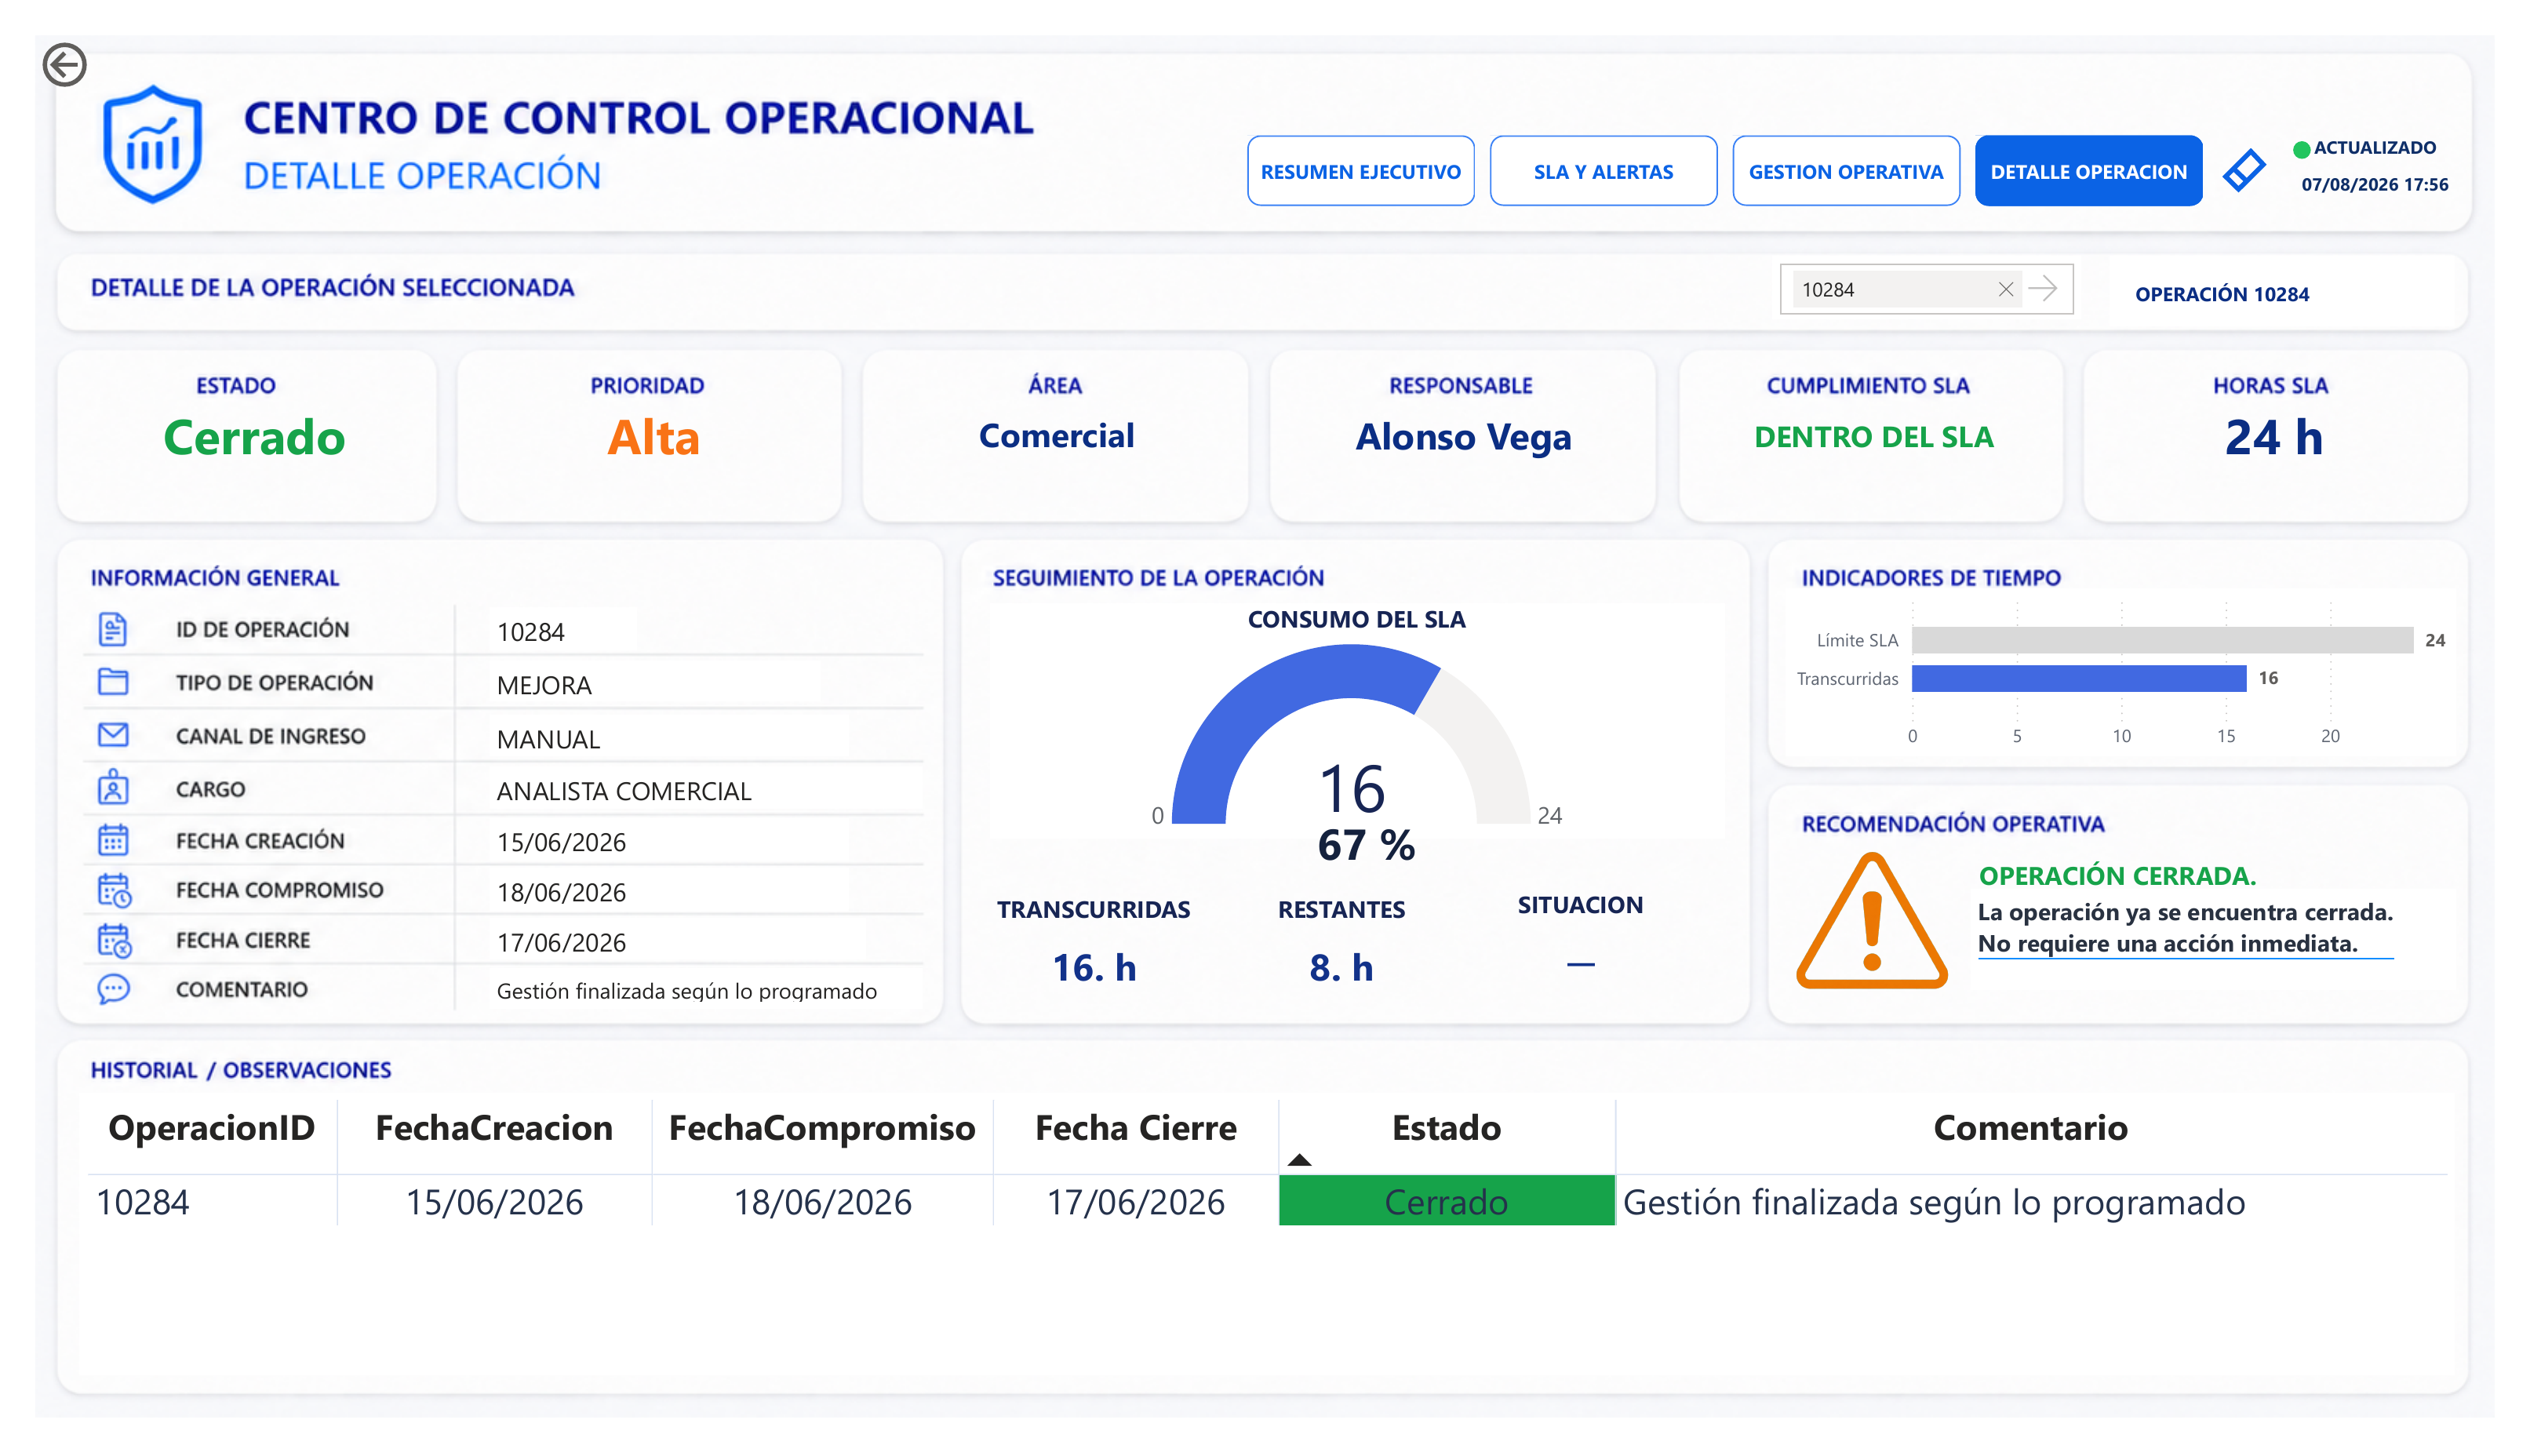

Layout of this report page (visuals, bound fields, positions):
{"tool":"powerbi","page":{"name":"DETALLE OPERACION","canvas":[1672,941],"ordinal":3},"visuals":[{"type":"pageNavigator","box":[824,68,650,48],"z":0},{"type":"actionButton","box":[1487,68,40,48],"z":1000},{"type":"cardVisual","title":"ACTUALIZADO","fields":{"Data":["Consulta.Texto Actualizacion"]},"box":[1536,68,110,48],"z":2000},{"type":"shape","box":[1535,72,12,12],"z":3000},{"type":"actionButton","box":[0,0,100,40],"z":4000},{"type":"cardVisual","fields":{"Data":["Consulta.Operacion Seleccionada"]},"box":[1410,150,235.5,48.2],"z":5000},{"type":"cardVisual","fields":{"Data":["Consulta.Estado Seleccionado"]},"box":[20,211.4,258.6,117.1],"z":6000},{"type":"cardVisual","fields":{"Data":["Consulta.Prioridad Seleccionada"]},"box":[288.6,211.4,264.3,117.1],"z":7000},{"type":"textSlicer","fields":{"Values":["Fact_Operaciones.OperacionID"]},"box":[1181.4,150,210,42.9],"z":8000},{"type":"cardVisual","fields":{"Data":["Consulta.Area Seleccionada"]},"box":[564.3,211.4,261.4,117.1],"z":9000},{"type":"cardVisual","fields":{"Data":["Consulta.Responsable Seleccionado"]},"box":[835.7,211.4,271.4,117.1],"z":10000},{"type":"cardVisual","fields":{"Data":["Consulta.Cumplimiento SLA Seleccionado"]},"box":[1120,211.4,261.4,117.1],"z":11000},{"type":"cardVisual","fields":{"Data":["Consulta.Horas SLA Seleccionada"]},"box":[1391.4,211.4,262.9,117.1],"z":12000},{"type":"cardVisual","fields":{"Data":["Consulta.ID Operacion Seleccionada"]},"box":[309.2,389.2,100,28.5],"z":13000},{"type":"cardVisual","fields":{"Data":["Consulta.Tipo Operacion Seleccionada"]},"box":[309.2,424.6,224.6,28.5],"z":14000},{"type":"cardVisual","fields":{"Data":["Consulta.Canal Ingreso Seleccionado"]},"box":[309.2,461.5,243.8,28.5],"z":15000},{"type":"cardVisual","fields":{"Data":["Consulta.Cargo Seleccionado"]},"box":[308.6,497.1,294.3,28.6],"z":16000},{"type":"cardVisual","fields":{"Data":["Consulta.Fecha Creacion Seleccionada"]},"box":[309.2,532.3,243.8,28.5],"z":17000},{"type":"cardVisual","fields":{"Data":["Consulta.Fecha Compromiso Seleccionada"]},"box":[309.2,566.2,243.8,28.5],"z":18000},{"type":"cardVisual","fields":{"Data":["Consulta.Fecha Cierre Seleccionada"]},"box":[309.2,600,255.4,28.5],"z":19000},{"type":"cardVisual","fields":{"Data":["Consulta.Comentario Seleccionado"]},"box":[309.2,633.8,293.8,28.5],"z":20000},{"type":"gauge","title":"CONSUMO DEL SLA","fields":{"Y":["Consulta.Horas Transcurridas Valor"],"MaxValue":["Consulta.Horas SLA Valor"]},"box":[648.8,386.2,500,160],"z":21000},{"type":"cardVisual","title":"TRANSCURRIDAS","fields":{"Data":["Consulta.Horas Transcurridas Seleccionadas"]},"box":[648.8,582.5,142.5,80],"z":22000},{"type":"cardVisual","title":"RESTANTES","fields":{"Data":["Consulta.Horas Restantes Seleccionadas"]},"box":[823.8,582.5,128.8,80],"z":22001},{"type":"cardVisual","title":"SITUACION","fields":{"Data":["Consulta.Situacion Plazo Seleccionada"]},"box":[952.5,580,196.2,81.2],"z":22002},{"type":"cardVisual","fields":{"Data":["Consulta.Porcentaje Consumo SLA"]},"box":[836.2,515,138.8,65],"z":22003},{"type":"clusteredBarChart","fields":{"Category":["Indicadores_Tiempo.Indicador"],"Y":["Consulta.Valor Indicador Tiempo"]},"box":[1190,376.2,456.2,113.8],"z":22004},{"type":"cardVisual","fields":{"Data":["Consulta.Recomendacion Titulo"]},"box":[1317.1,542.9,328.6,52.9],"z":22005},{"type":"image","box":[1181.2,540,135,127.5],"z":22007},{"type":"textbox","box":[1316.2,580,330,68.8],"z":22008},{"type":"tableEx","fields":{"Values":["Fact_Operaciones.OperacionID","Fact_Operaciones.FechaCreacion","Fact_Operaciones.FechaCompromiso","Consulta.Fecha Cierre Seleccionada","Consulta.Estado Seleccionado","Fact_Operaciones.Comentario"]},"box":[30,718.8,1615,192.5],"z":22009}]}

Visuals, with their boxes in screenshot pixels (x1, y1, x2, y2), scaled from the page's 1672x941 canvas onto the 2530x1456 screenshot:
pageNavigator: box(1247, 105, 2230, 180)
actionButton: box(2250, 105, 2310, 180)
"ACTUALIZADO" cardVisual: box(2324, 105, 2491, 180)
shape: box(2323, 111, 2341, 130)
actionButton: box(0, 0, 151, 62)
cardVisual - Consulta.Operacion Seleccionada: box(2134, 232, 2490, 307)
cardVisual - Consulta.Estado Seleccionado: box(31, 327, 421, 508)
cardVisual - Consulta.Prioridad Seleccionada: box(437, 327, 836, 508)
textSlicer - Fact_Operaciones.OperacionID: box(1788, 232, 2106, 298)
cardVisual - Consulta.Area Seleccionada: box(854, 327, 1250, 508)
cardVisual - Consulta.Responsable Seleccionado: box(1265, 327, 1675, 508)
cardVisual - Consulta.Cumplimiento SLA Seleccionado: box(1695, 327, 2090, 508)
cardVisual - Consulta.Horas SLA Seleccionada: box(2106, 327, 2503, 508)
cardVisual - Consulta.ID Operacion Seleccionada: box(468, 602, 619, 646)
cardVisual - Consulta.Tipo Operacion Seleccionada: box(468, 657, 808, 701)
cardVisual - Consulta.Canal Ingreso Seleccionado: box(468, 714, 837, 758)
cardVisual - Consulta.Cargo Seleccionado: box(467, 769, 912, 814)
cardVisual - Consulta.Fecha Creacion Seleccionada: box(468, 824, 837, 868)
cardVisual - Consulta.Fecha Compromiso Seleccionada: box(468, 876, 837, 920)
cardVisual - Consulta.Fecha Cierre Seleccionada: box(468, 928, 854, 973)
cardVisual - Consulta.Comentario Seleccionado: box(468, 981, 912, 1025)
"CONSUMO DEL SLA" gauge: box(981, 598, 1738, 845)
"TRANSCURRIDAS" cardVisual: box(981, 901, 1197, 1025)
"RESTANTES" cardVisual: box(1247, 901, 1441, 1025)
"SITUACION" cardVisual: box(1441, 897, 1738, 1023)
cardVisual - Consulta.Porcentaje Consumo SLA: box(1265, 797, 1476, 897)
clusteredBarChart - Indicadores_Tiempo.Indicador x Consulta.Valor Indicador Tiempo: box(1800, 582, 2491, 758)
cardVisual - Consulta.Recomendacion Titulo: box(1993, 840, 2490, 922)
image: box(1787, 835, 1992, 1033)
textbox: box(1992, 897, 2491, 1004)
tableEx - Fact_Operaciones.OperacionID x Fact_Operaciones.FechaCreacion: box(46, 1112, 2489, 1410)
